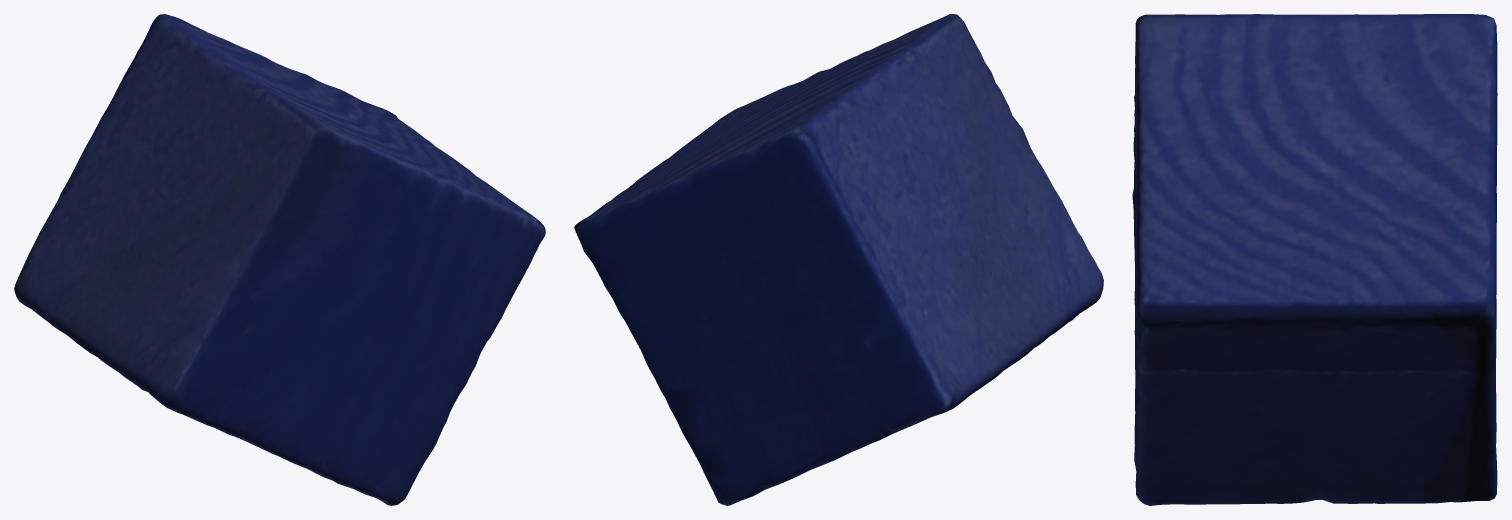
3 renders of one model, left to right at view 1: azimuth 30°, elevation 25°; view 2: azimuth 150°, elevation 25°; view 3: azimuth 270°, elevation 25°, orthographic. The views are drawn at different scales.
Parts seen in each view (by area): view 1: textured.079; view 2: textured.079; view 3: textured.079.
Part boxes in pixels (bbox=[...]): textured.079: bbox=[14, 14, 545, 505]; textured.079: bbox=[574, 14, 1103, 505]; textured.079: bbox=[1132, 14, 1497, 505].
Size of the model in its own units: 0.0349 by 0.035 by 0.0258.
1 material, 1 textured.
